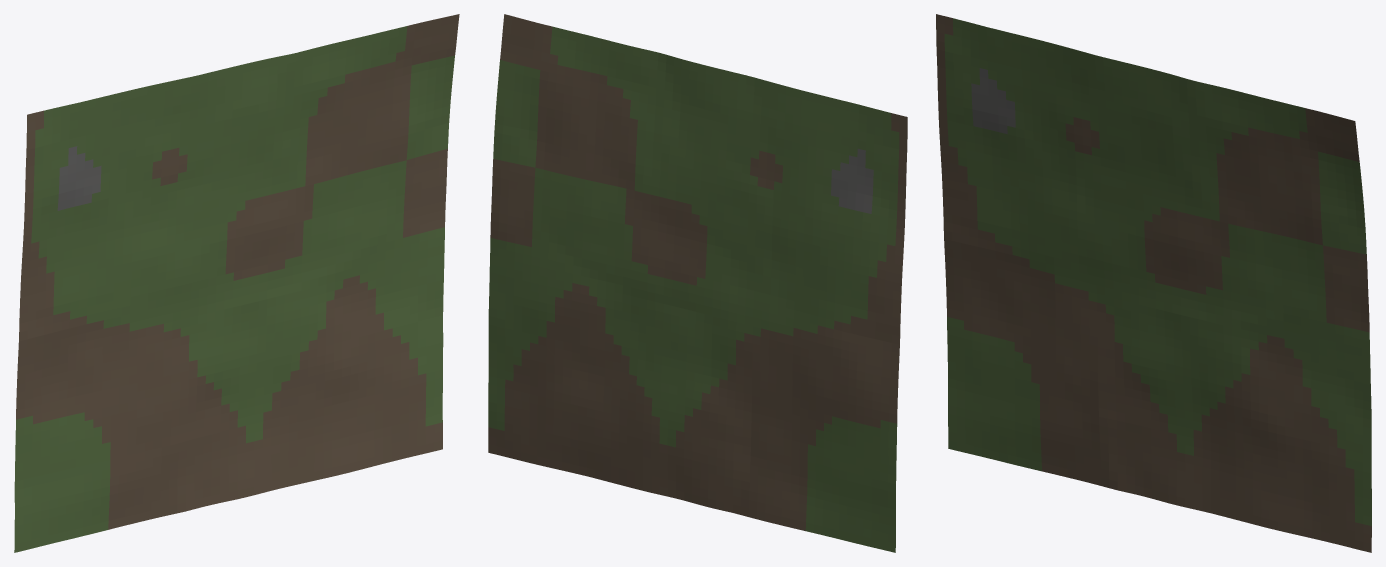
File: SARM_SAR_Terrain_00_04.glb
3 renders of one model, left to right at view 1: azimuth 30°, elevation 25°; view 2: azimuth 150°, elevation 25°; view 3: azimuth 330°, elevation 25°, orthographic. The views are drawn at different scales.
Visible parts, largest first — view 1: SAR_Terrain_00_04.001; view 2: SAR_Terrain_00_04.001; view 3: SAR_Terrain_00_04.001.
Boxes of the visible parts, x1,y1,x2,y2 form: SAR_Terrain_00_04.001: [14, 14, 459, 552]; SAR_Terrain_00_04.001: [488, 14, 907, 552]; SAR_Terrain_00_04.001: [936, 14, 1371, 552].
Size of the model in its own units: 50 by 50 by 3.62.
